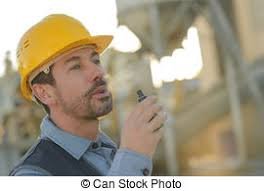hard hat: (16, 13, 114, 103)
